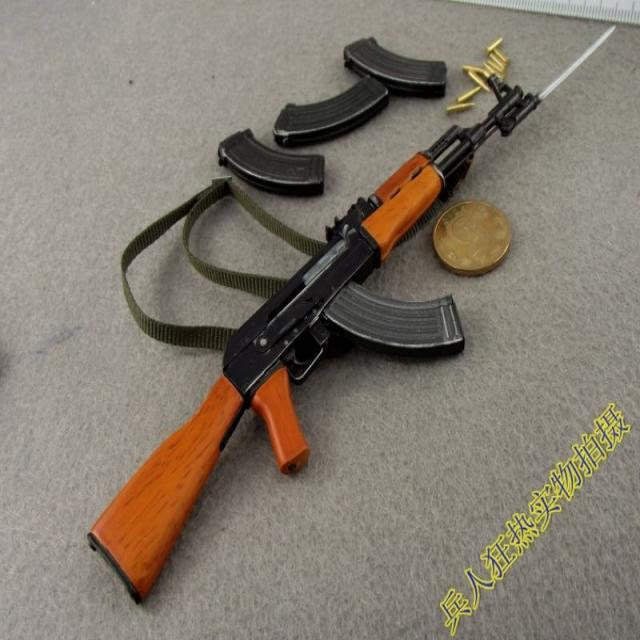ak: (82, 70, 548, 614)
